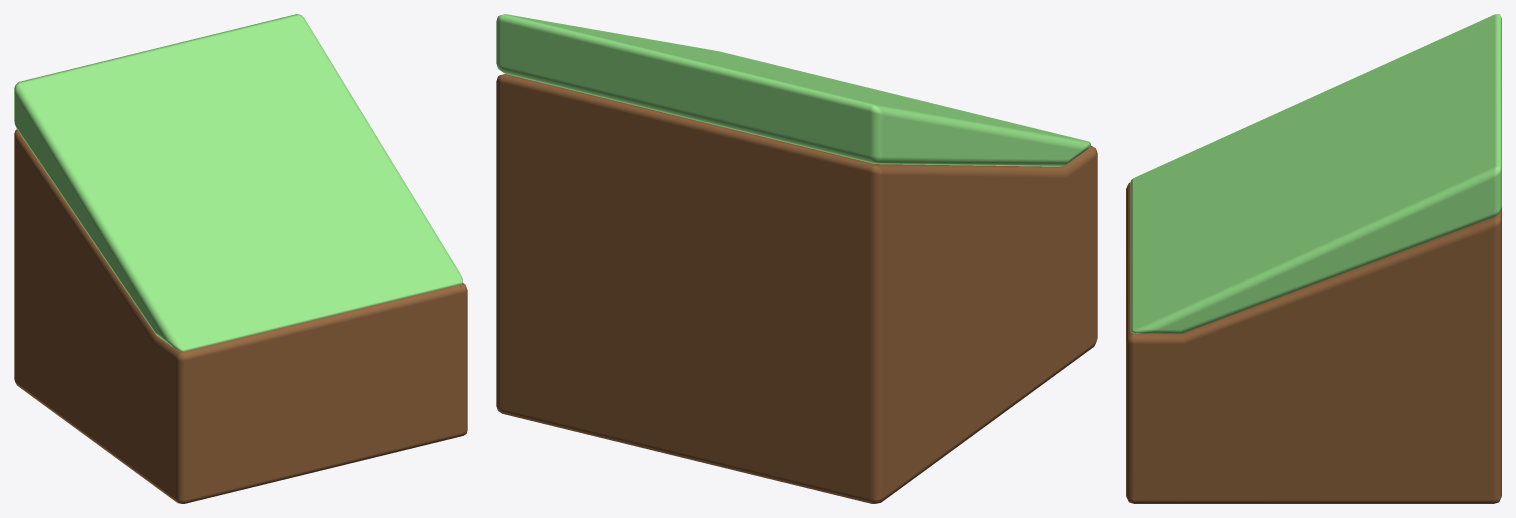
File: Ramp - Upper - 1x1.glb
3 renders of one model, left to right at view 1: azimuth 30°, elevation 25°; view 2: azimuth 150°, elevation 25°; view 3: azimuth 270°, elevation 25°, orthographic. The views are drawn at different scales.
Visible parts, largest first — view 1: Ramp - Upper - 1x1; view 2: Ramp - Upper - 1x1; view 3: Ramp - Upper - 1x1.
Boxes of the visible parts, x1,y1,x2,y2 form: Ramp - Upper - 1x1: [14, 14, 467, 503]; Ramp - Upper - 1x1: [496, 14, 1097, 503]; Ramp - Upper - 1x1: [1126, 14, 1501, 503].
Bounding box in the file's own units: 2 × 1.98 × 2.
